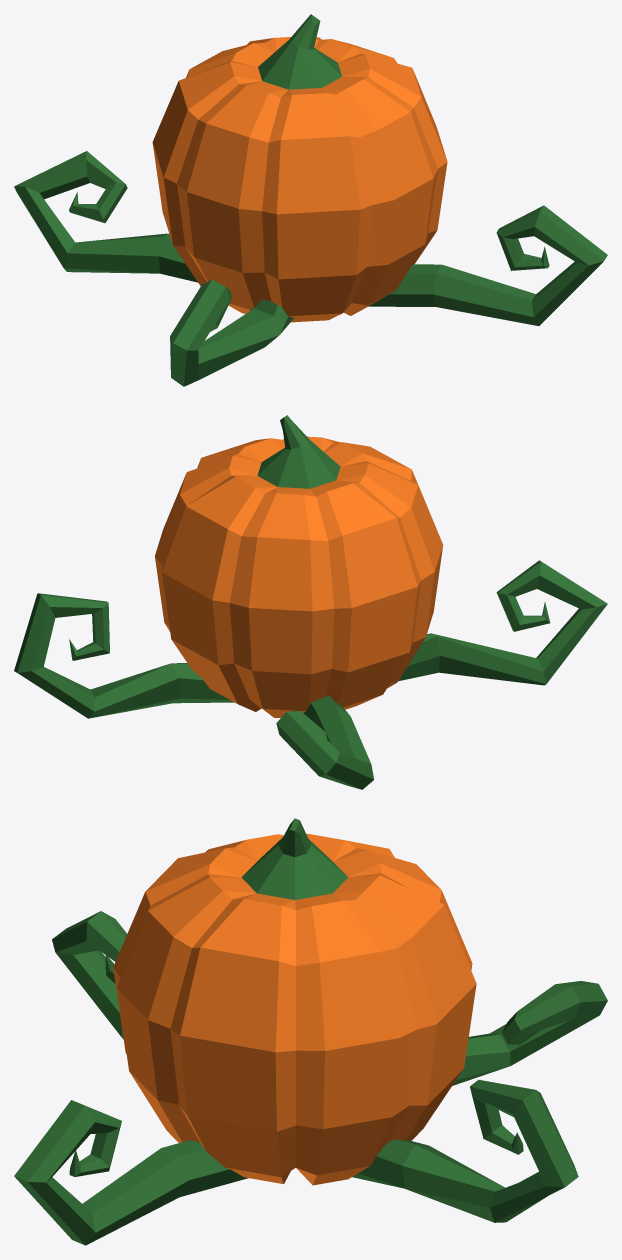
Rendered from nature_pumkin-leaves.fbx.
The picture shows the model from 3 angles, top to bottom: view 1: azimuth 30°, elevation 25°; view 2: azimuth 150°, elevation 25°; view 3: azimuth 270°, elevation 25°; orthographic projection. The views are drawn at different scales.
Visible parts, largest first — view 1: nature_pumkin_leaves; view 2: nature_pumkin_leaves; view 3: nature_pumkin_leaves.
Boxes of the visible parts, box(x1,y1,x2,y2) form: nature_pumkin_leaves: box(14, 14, 607, 386); nature_pumkin_leaves: box(14, 415, 607, 789); nature_pumkin_leaves: box(14, 818, 607, 1245).
Size of the model in its own units: 199 by 129 by 200.
